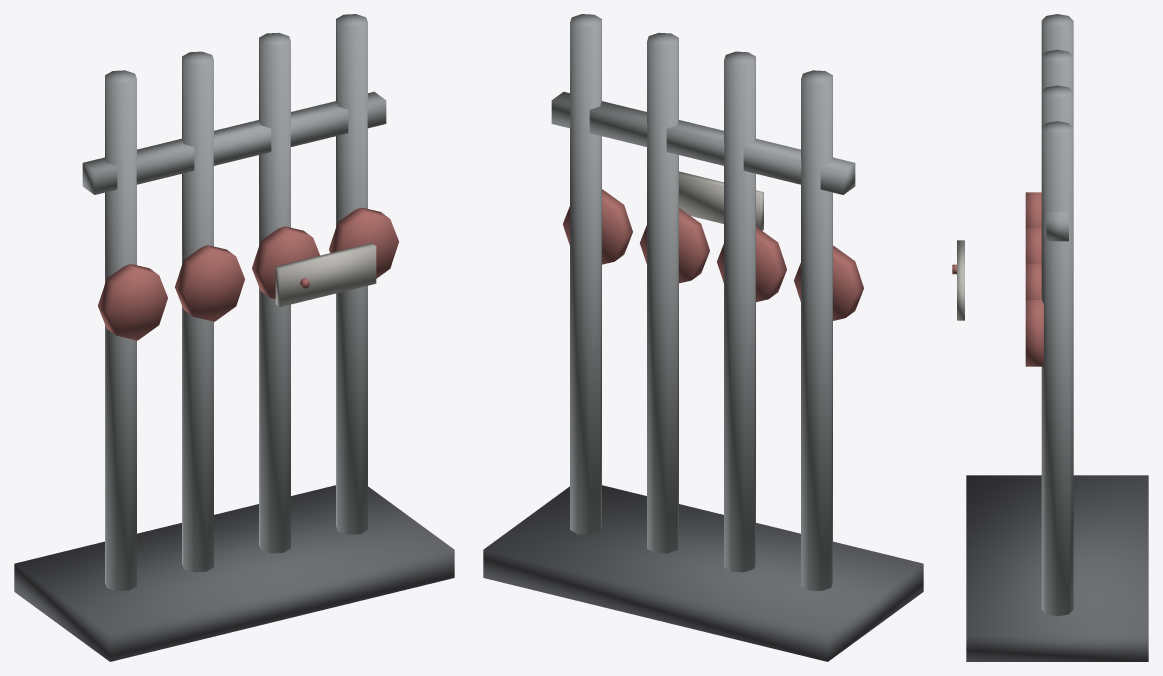
Rendered from radiator_manifold__compact.glb.
3 renders of one model, left to right at view 1: azimuth 30°, elevation 25°; view 2: azimuth 150°, elevation 25°; view 3: azimuth 270°, elevation 25°, orthographic. The views are drawn at different scales.
Parts seen in each view (by area): view 1: world; view 2: world; view 3: world.
Part boxes in pixels (box(x1,y1,x2,y2)): world: box(14, 14, 454, 661); world: box(483, 14, 923, 661); world: box(952, 14, 1148, 661).
Size of the model in its own units: 0.714 by 1.06 by 0.3707.
